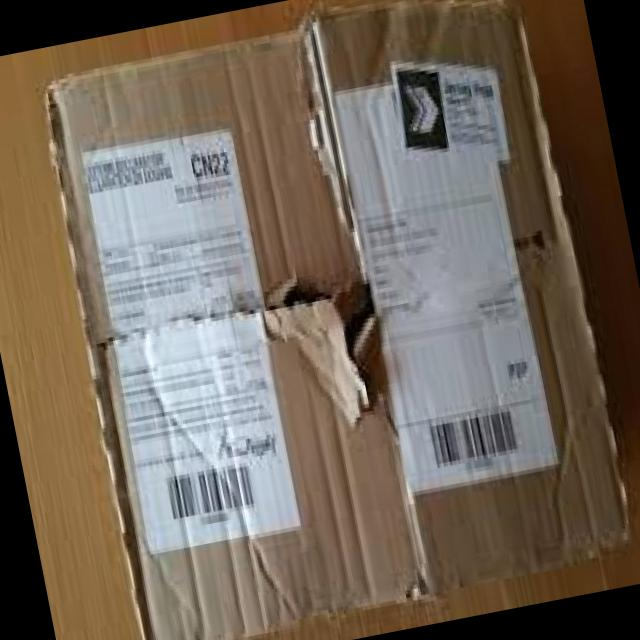box: (96, 379, 341, 629)
